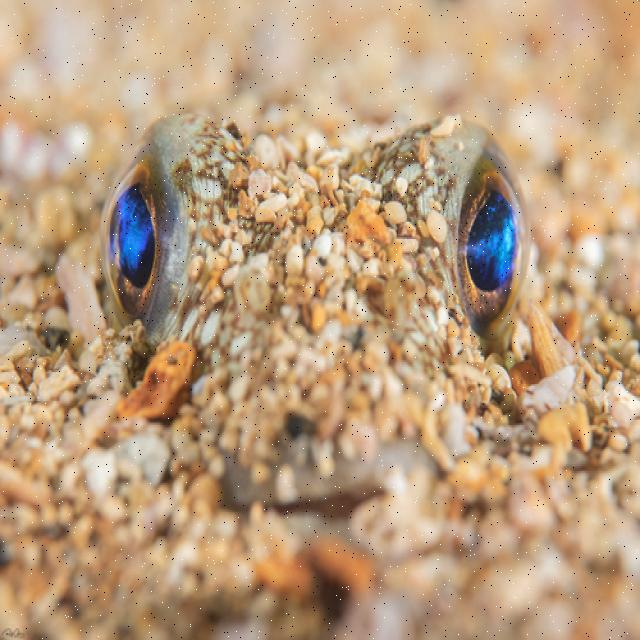Balik: (102, 115, 529, 465)
